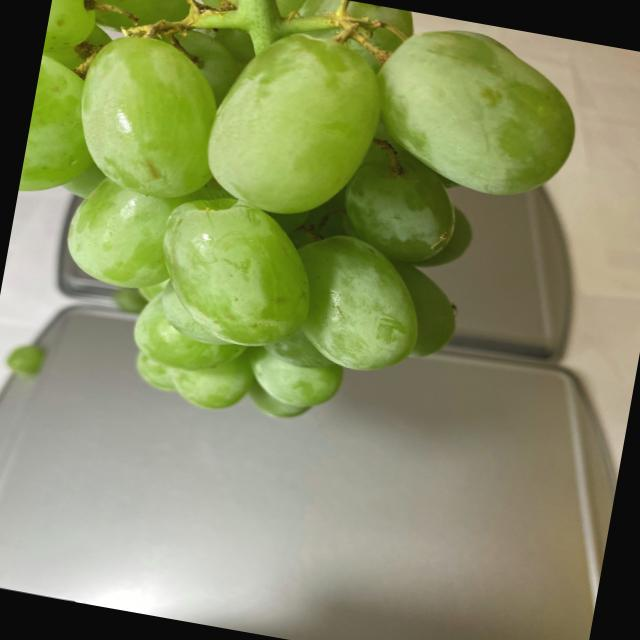grapes: (0, 0, 594, 469)
